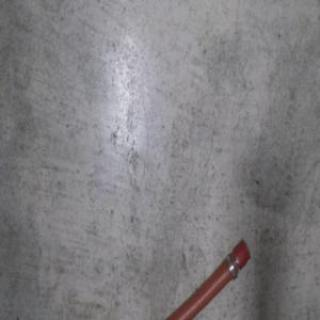Hosetrack_idkeyframe: (162, 236, 250, 319)
